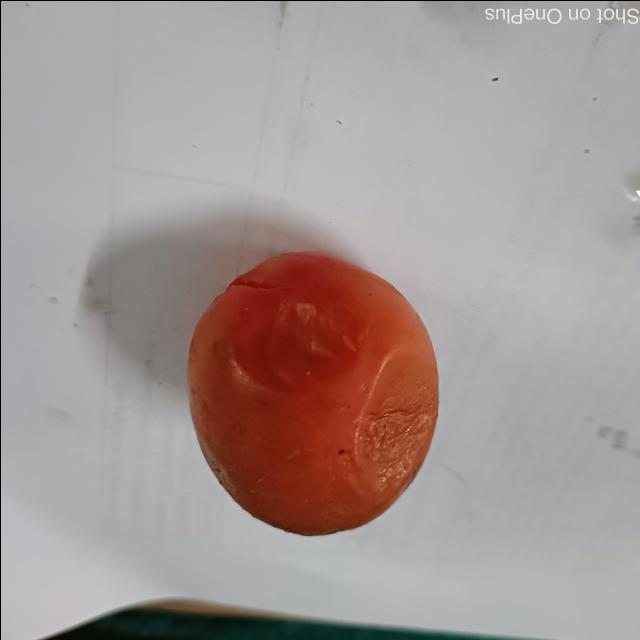Botrytis: (356, 397, 434, 477)
